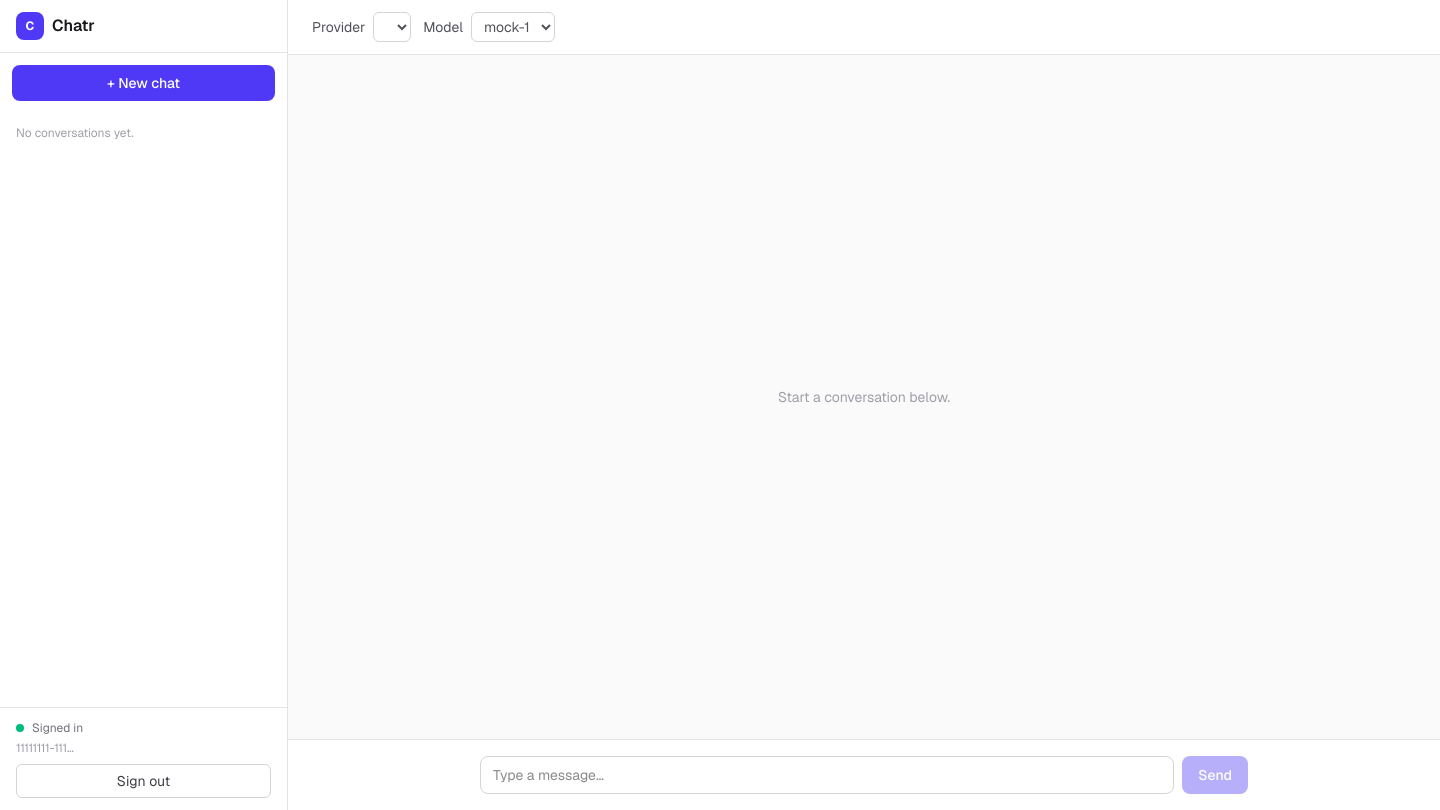
Scenario: ChatWorkspace › surfaces non-streaming API errors as a message
The width and height of the screenshot is (1440, 810).
Step 1. Type "boom" into the text box with placeholder "Type a message…" → (827, 775), box [480,756,1174,794]
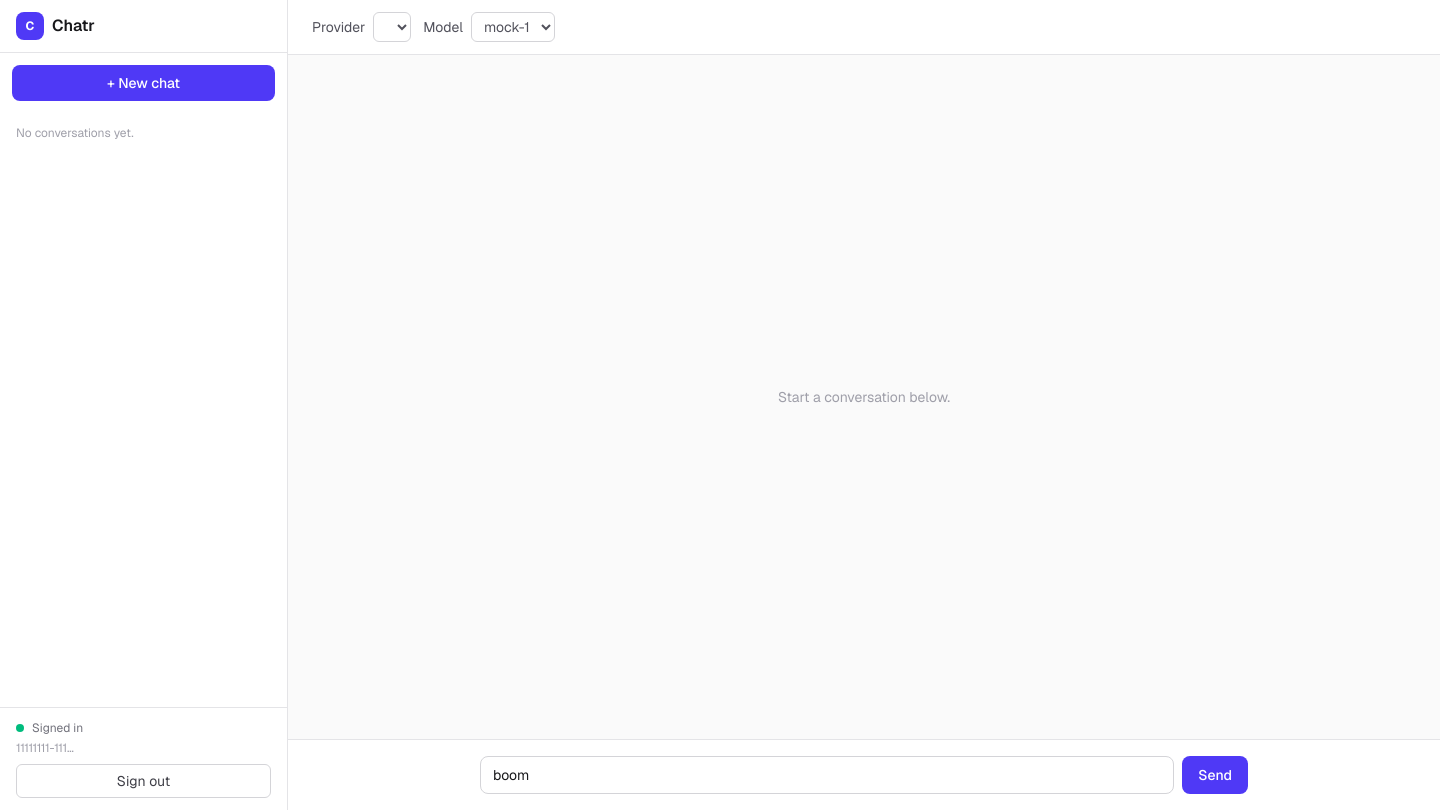
Step 2. Click the button "Send" → (1215, 775), box [1182,756,1248,794]
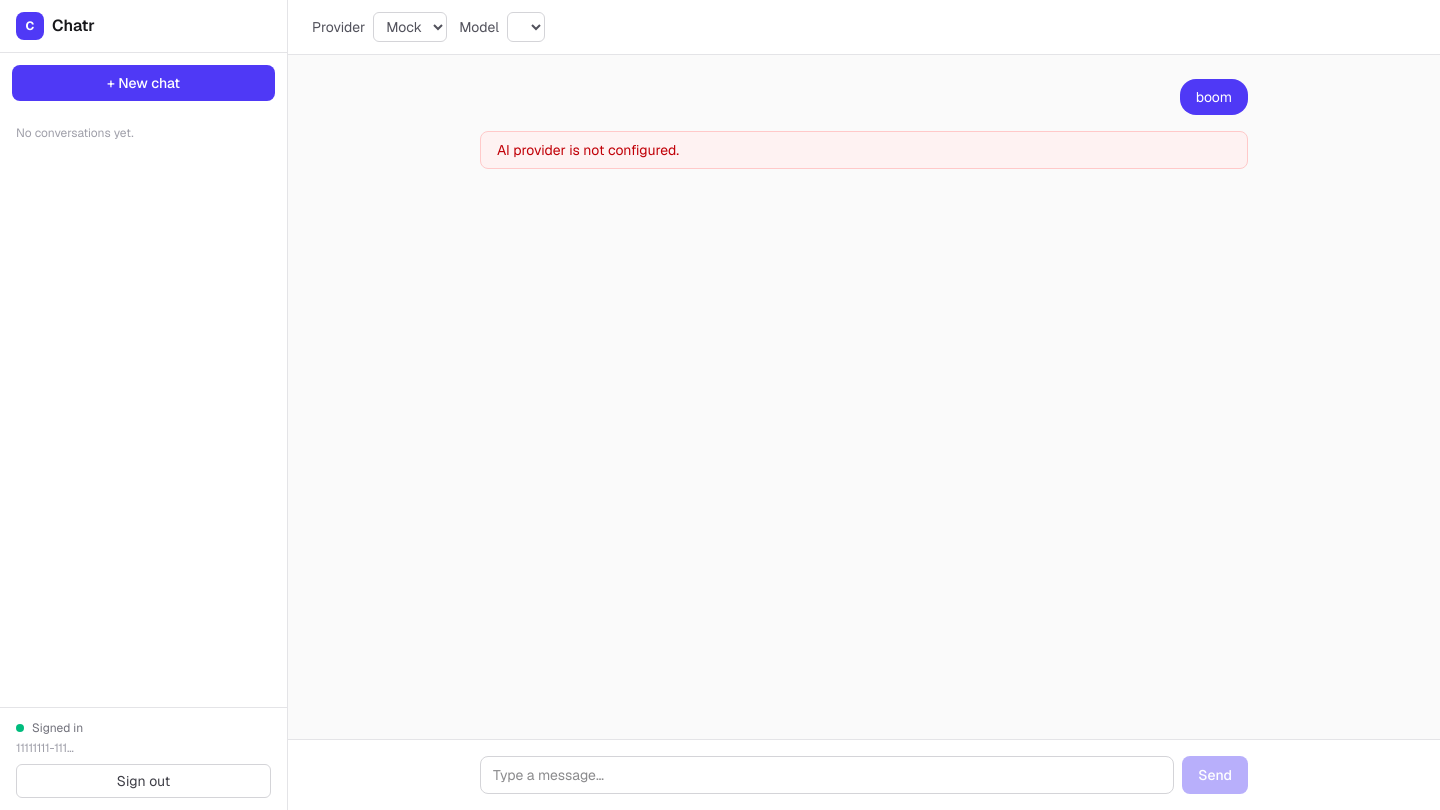
Now the text "AI provider is not configured." is shown, box [480,131,1248,169]
